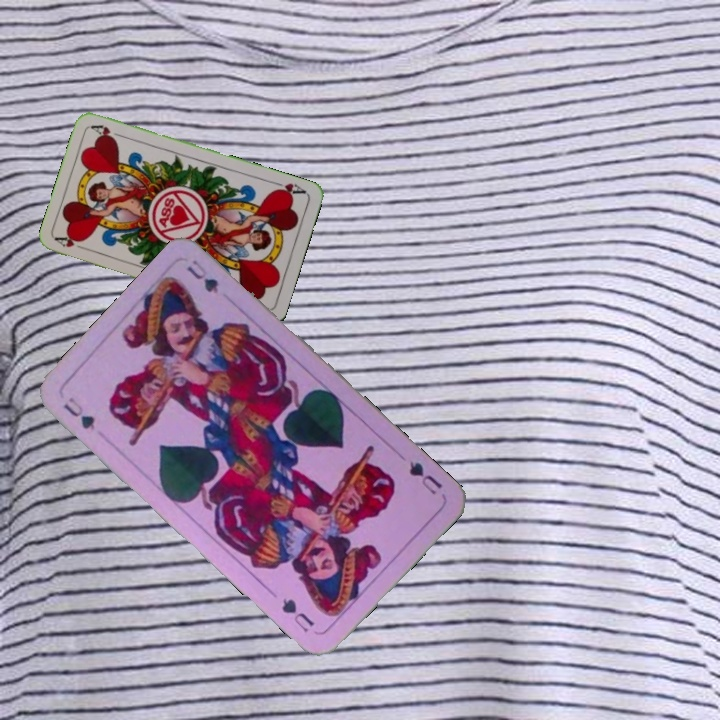GU: (405, 457, 445, 498), (59, 392, 98, 433)
HA: (269, 177, 309, 199), (52, 232, 92, 254)
